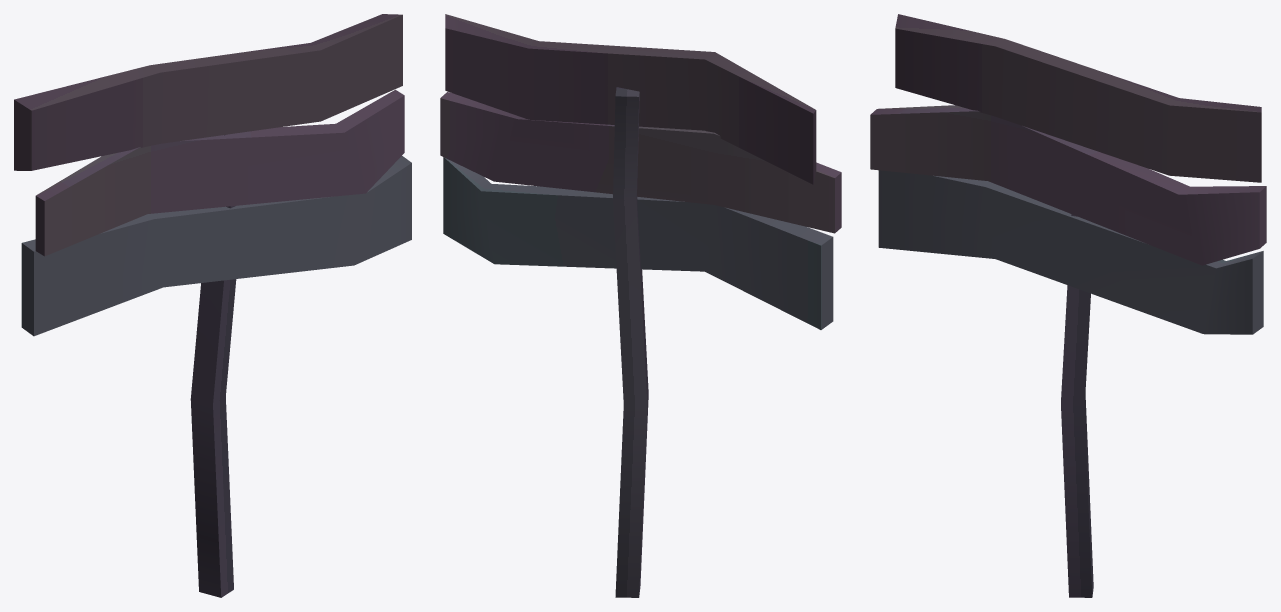
Rendered from SS_Sign2.fbx.
3 views of the same model, side by side, from view 1: azimuth 30°, elevation 25°; view 2: azimuth 150°, elevation 25°; view 3: azimuth 330°, elevation 25° (orthographic).
Visible parts, largest first — view 1: Sign; view 2: Sign; view 3: Sign.
Boxes of the visible parts, box(x1,y1,x2,y2) form: Sign: box(14, 14, 411, 597); Sign: box(440, 14, 841, 597); Sign: box(870, 14, 1266, 597).
Bounding box in the file's own units: 2.53 × 3.5 × 0.3426.
Materials: 1 (1 with a texture image).
